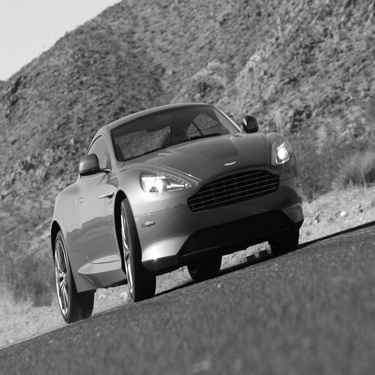car: (40, 95, 304, 328)
